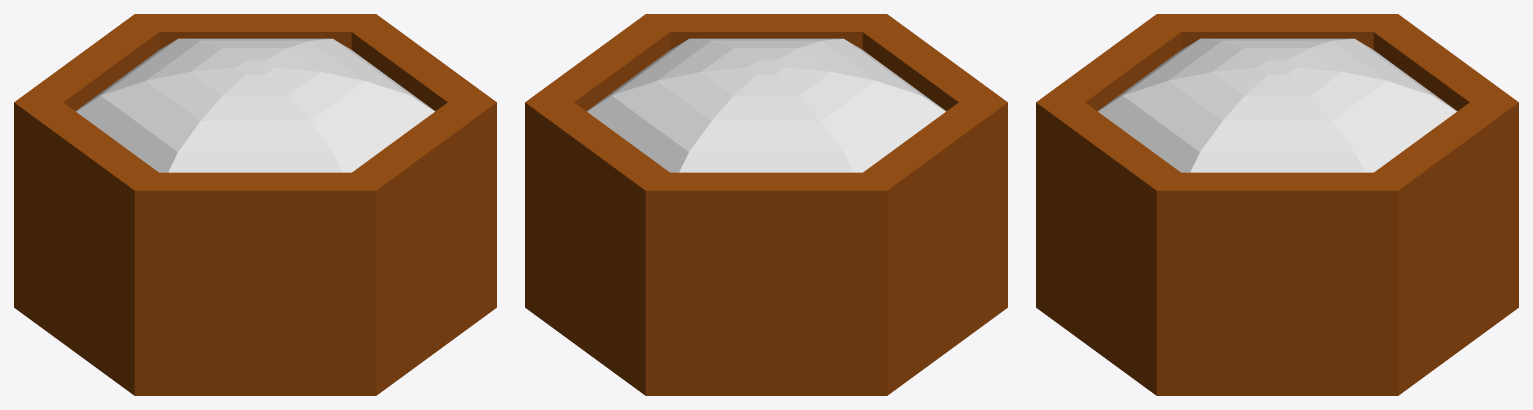
File: HoneyComb_Full.fbx
3 renders of one model, left to right at view 1: azimuth 30°, elevation 25°; view 2: azimuth 150°, elevation 25°; view 3: azimuth 270°, elevation 25°, orthographic.
Parts seen in each view (by area): view 1: Cylinder; view 2: Cylinder; view 3: Cylinder.
Part boxes in pixels (box(x1,y1,x2,y2)): Cylinder: box(14, 14, 496, 395); Cylinder: box(525, 14, 1007, 395); Cylinder: box(1036, 14, 1518, 395).
Bounding box in the file's own units: 173 × 110 × 200.
